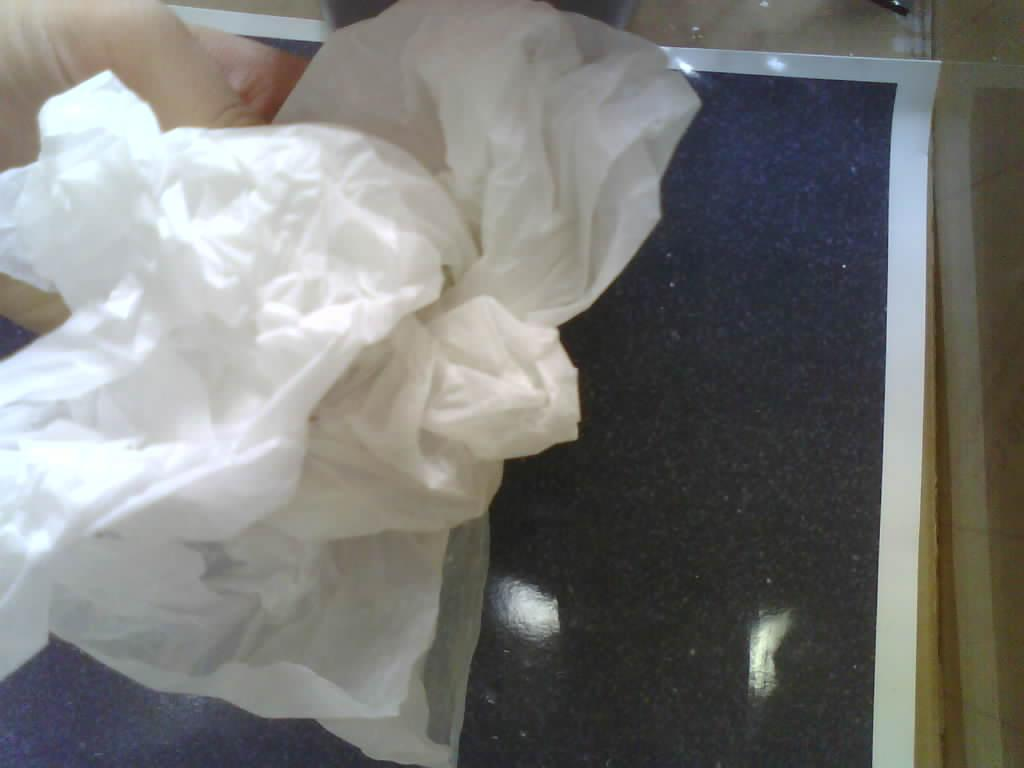paper: (0, 4, 696, 764)
